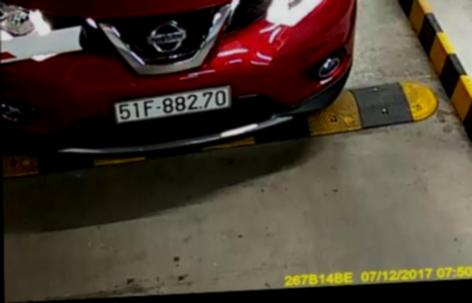License_Plate: (115, 82, 232, 126)
